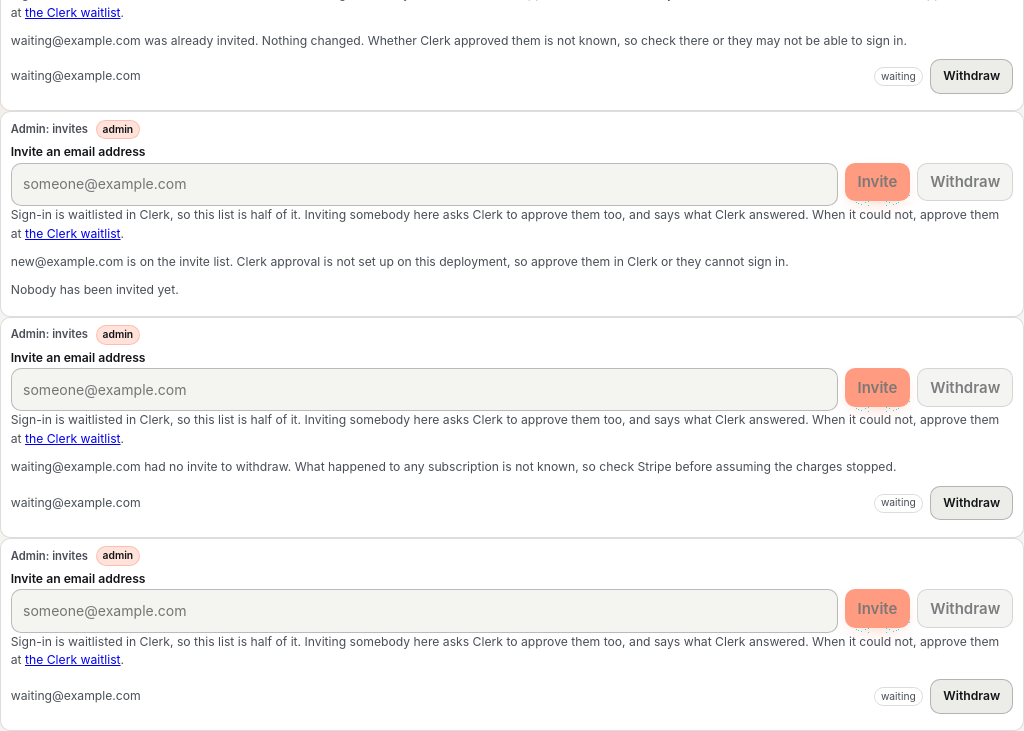
Test case: the invite panel › reloads the list after something changed
(page scrolled)
Click the 7th button "Withdraw".
click(972, 696)  # box 930,679 -> 1013,714
(page scrolled)
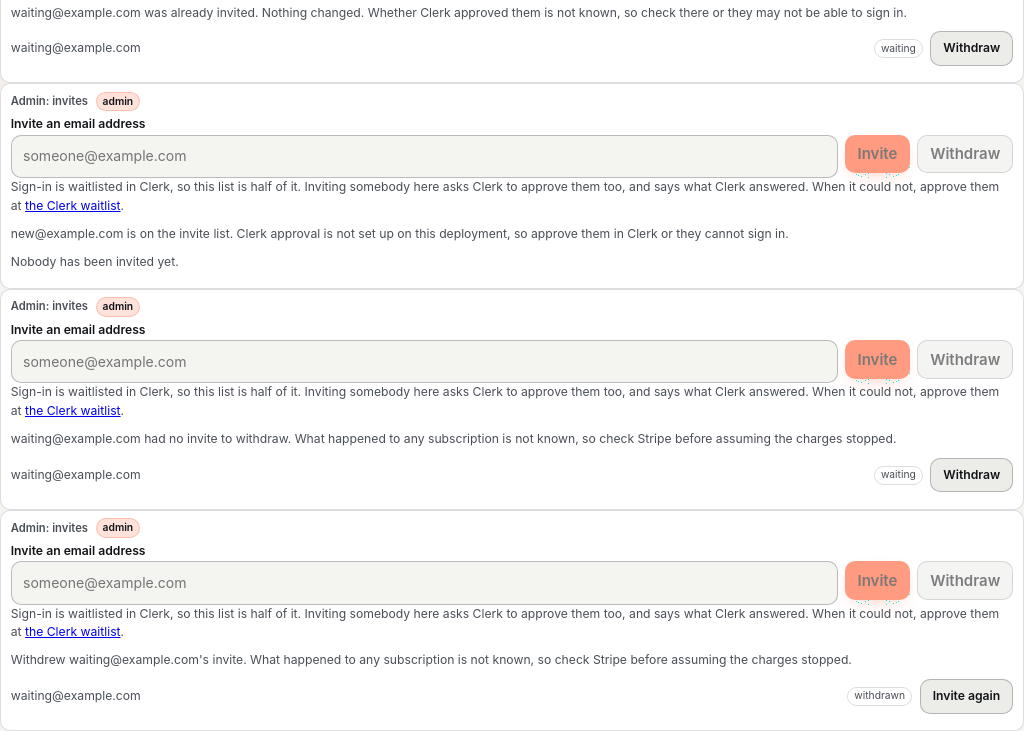
Result: the element that starts with "Admin: invites" shows "withdrawn" at 854,689 -> 905,701
Result: the element that starts with "Admin: invites" shows "Invite again" at 920,679 -> 1013,714
